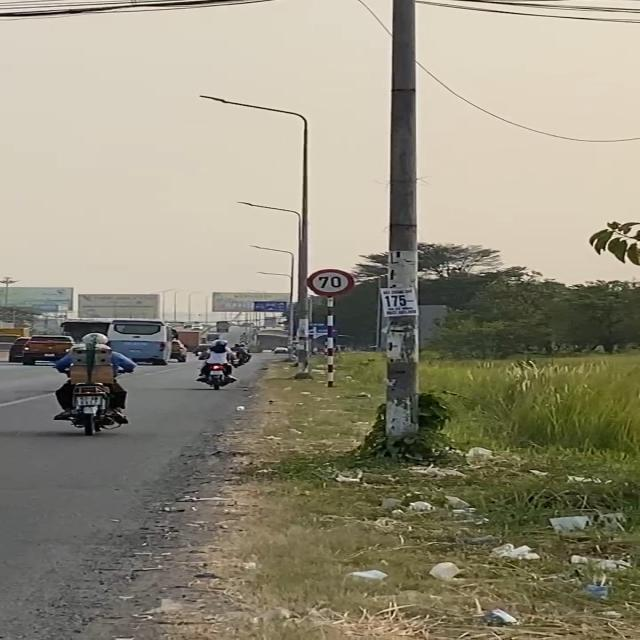127-toc-do-toi-da-70: (307, 268, 354, 296)
